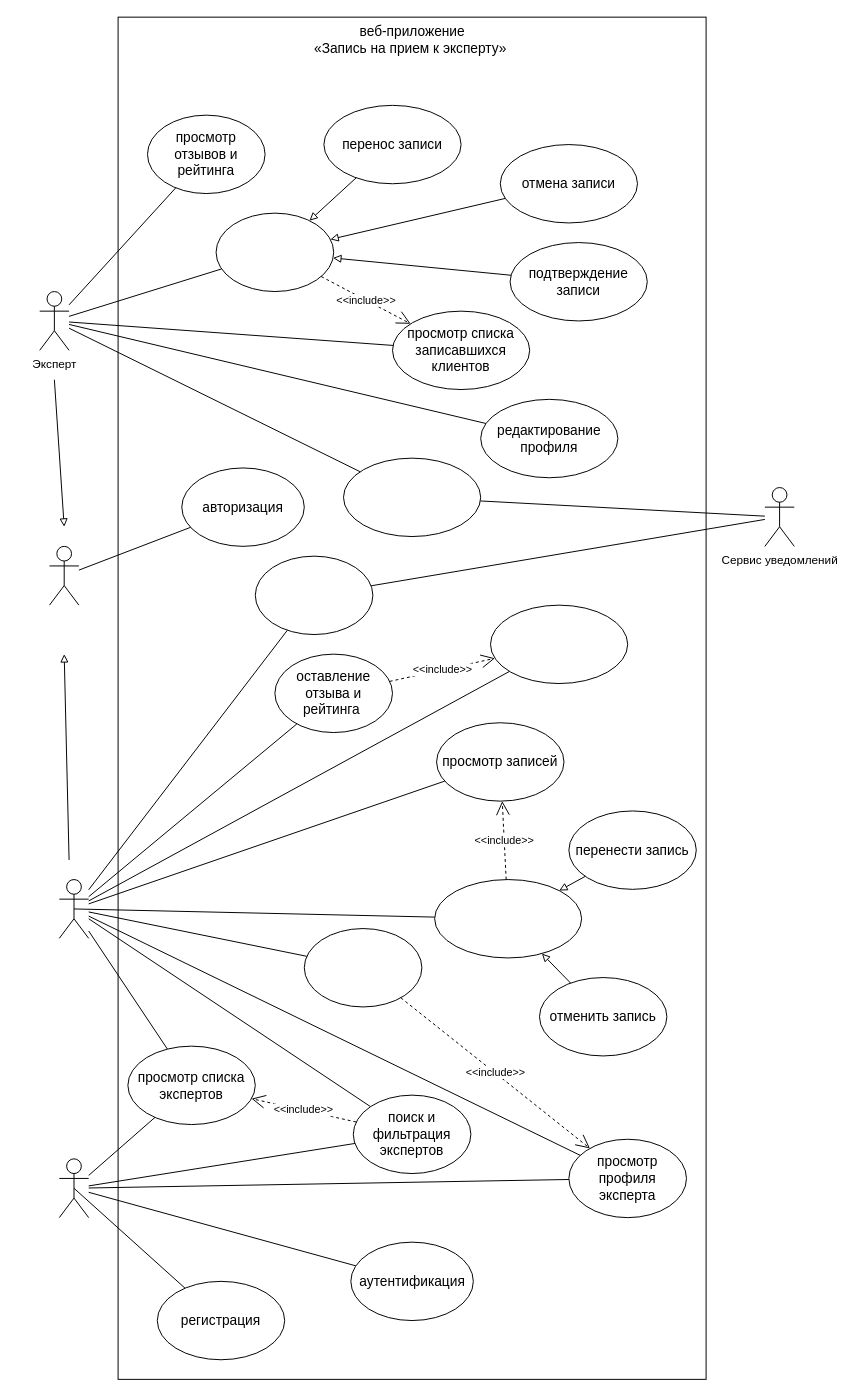
Some shapes in this 855 by 1397 pixel diagram are drawn without their labels. Here are the shapes that lost their labels. From the top down, the box of each, then its label:
(215, 212, 334, 292): управление расписанием консультаций
(343, 457, 481, 537): получение уведомлений о новых записях
(49, 545, 79, 605): Авторизованный пользователь
(254, 555, 373, 635): получение уведомлений
(490, 604, 628, 684): просмотр истории консультаций
(58, 879, 89, 938): Клиент
(434, 879, 582, 958): у правление своими записями
(303, 928, 422, 1007): запись на консультацию
(58, 1158, 89, 1218): Гость
